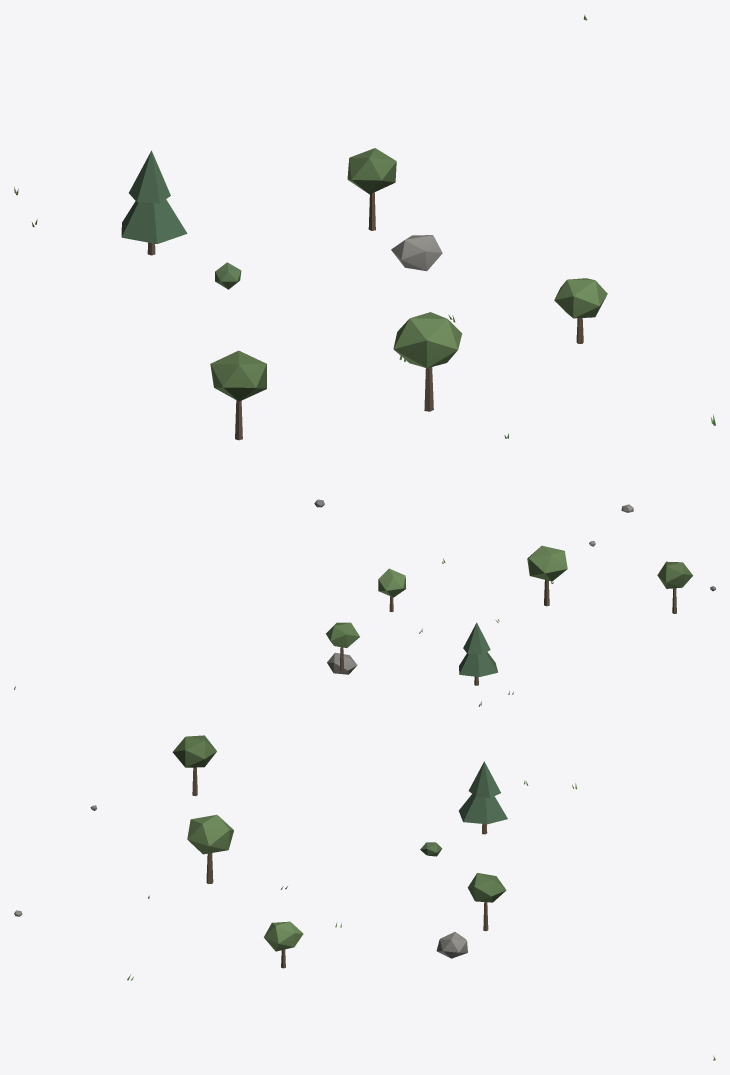
File: arch_land_scatter_c21_20_lod1.glb
The picture shows the model from 3 angles, top to bottom: view 1: azimuth 30°, elevation 25°; view 2: azimuth 150°, elevation 25°; view 3: azimuth 270°, elevation 25°; orthographic projection. The views are drawn at different scales.
Parts seen in each view (by area): view 1: arch_land_scatter_c21_20_lod1; view 2: arch_land_scatter_c21_20_lod1; view 3: arch_land_scatter_c21_20_lod1.
Boxes of the visible parts, x1=… form: arch_land_scatter_c21_20_lod1: x1=14, y1=15, x2=715, y2=512; arch_land_scatter_c21_20_lod1: x1=14, y1=541, x2=715, y2=706; arch_land_scatter_c21_20_lod1: x1=14, y1=735, x2=715, y2=1060.
Bounding box in the file's own units: 68.52 × 14.4 × 80.32.
